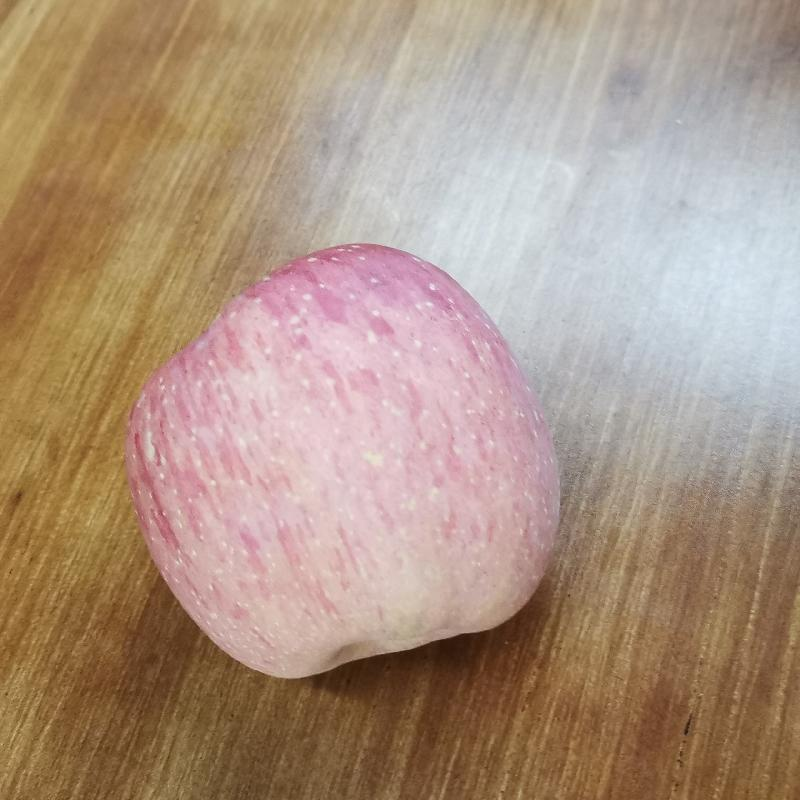apples: (119, 236, 564, 683)
